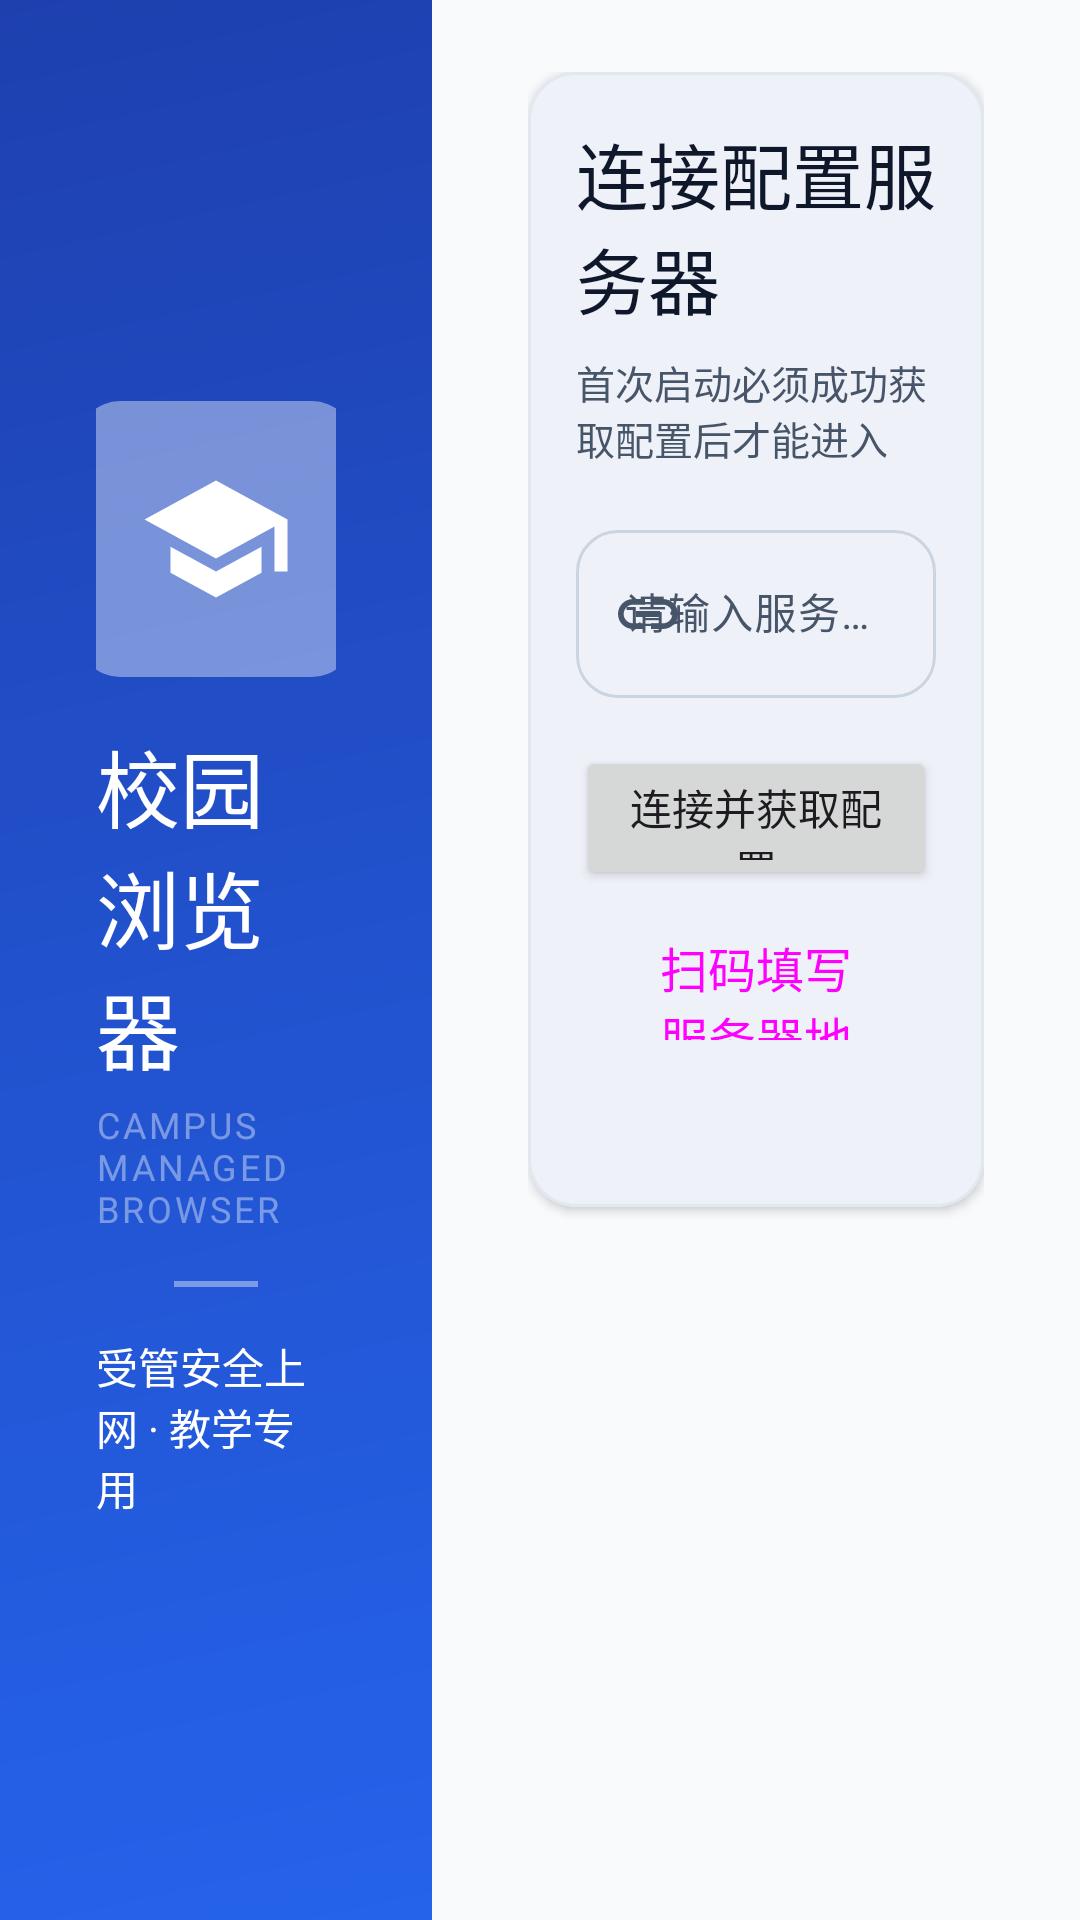

Point at icon controls on the screen. Image size 1080px×1920px, points as (x,y).
school: (216,539)
